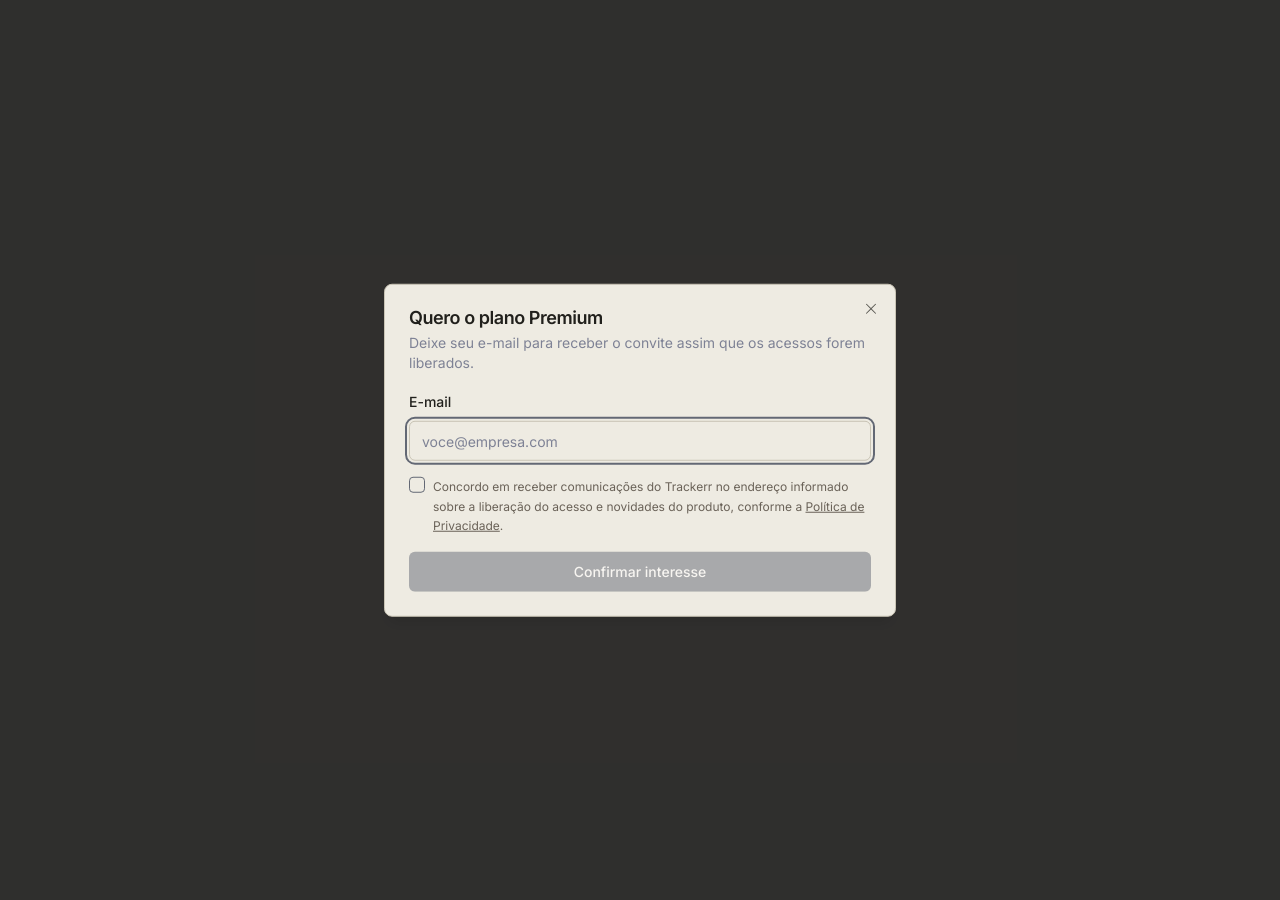
it: PurchaseIntentModal › enables submit only after a valid email is entered and the consent checkbox is checked
Type "investidor@example.com" into the field labelled "E-mail" at (640, 441), box [409,421,871,461]
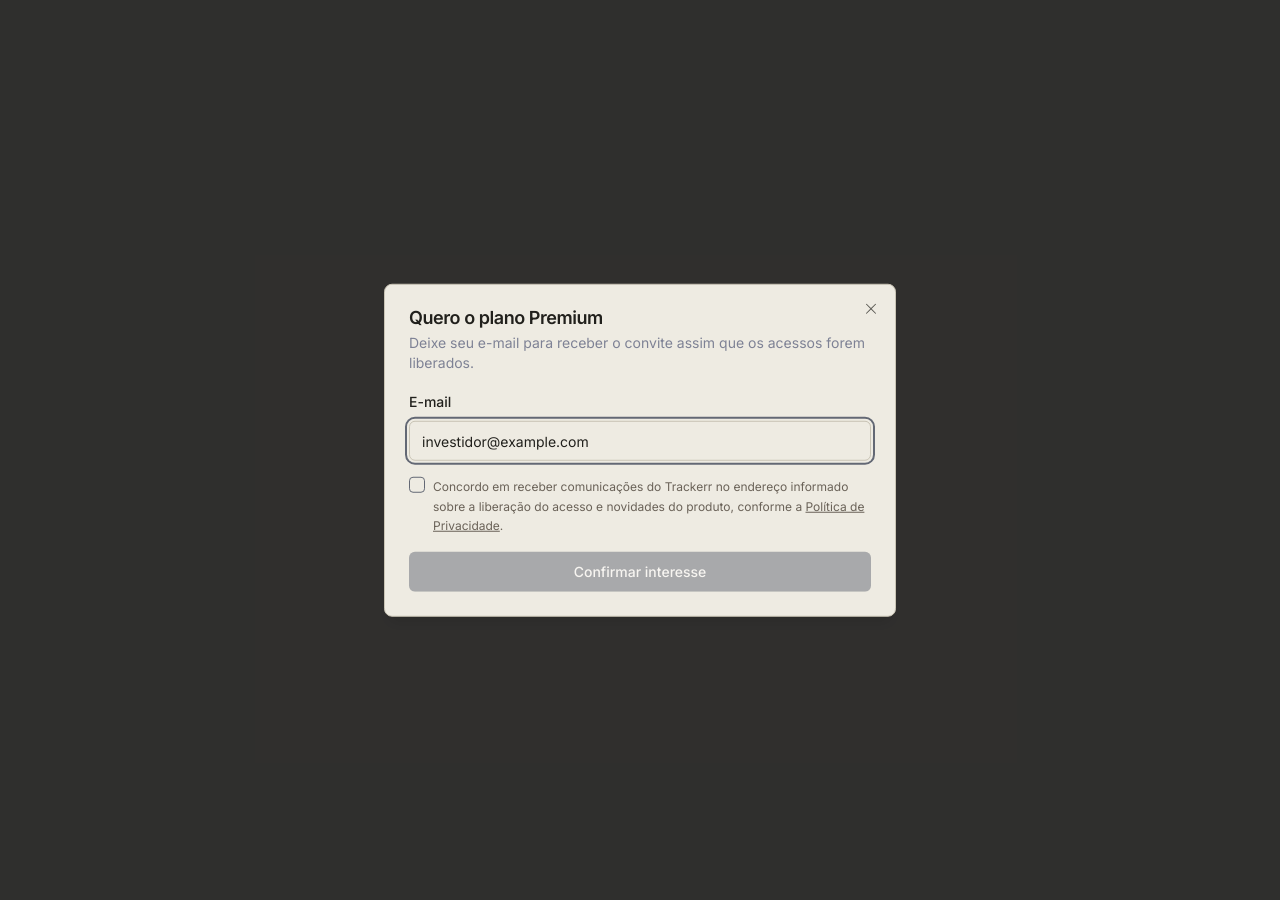
Expected: the button "Confirmar interesse" is disabled, [409,551,871,591]
Click the checkbox at (417, 485), box [409,477,425,493]
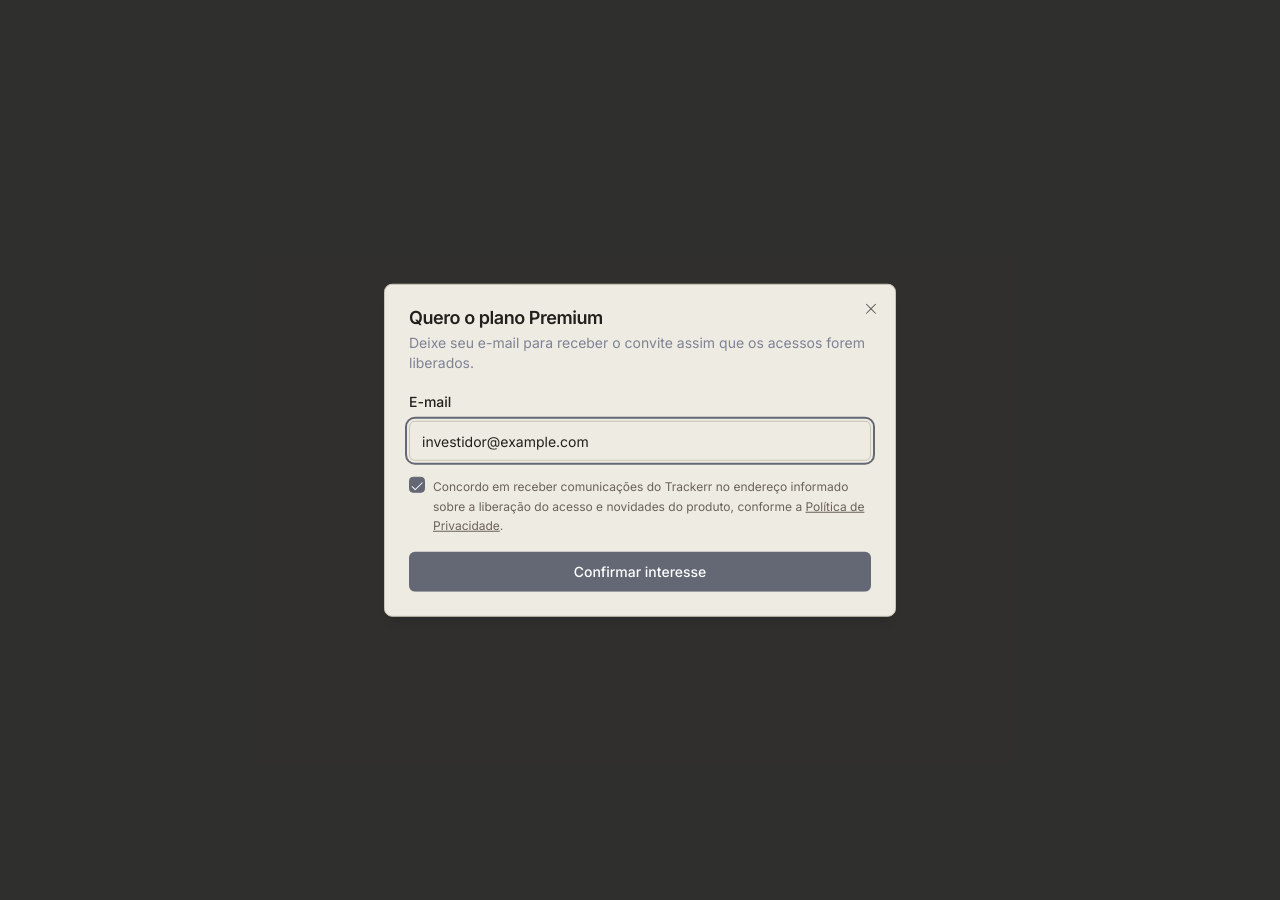
Expected: the button "Confirmar interesse" is enabled, [409,551,871,591]
